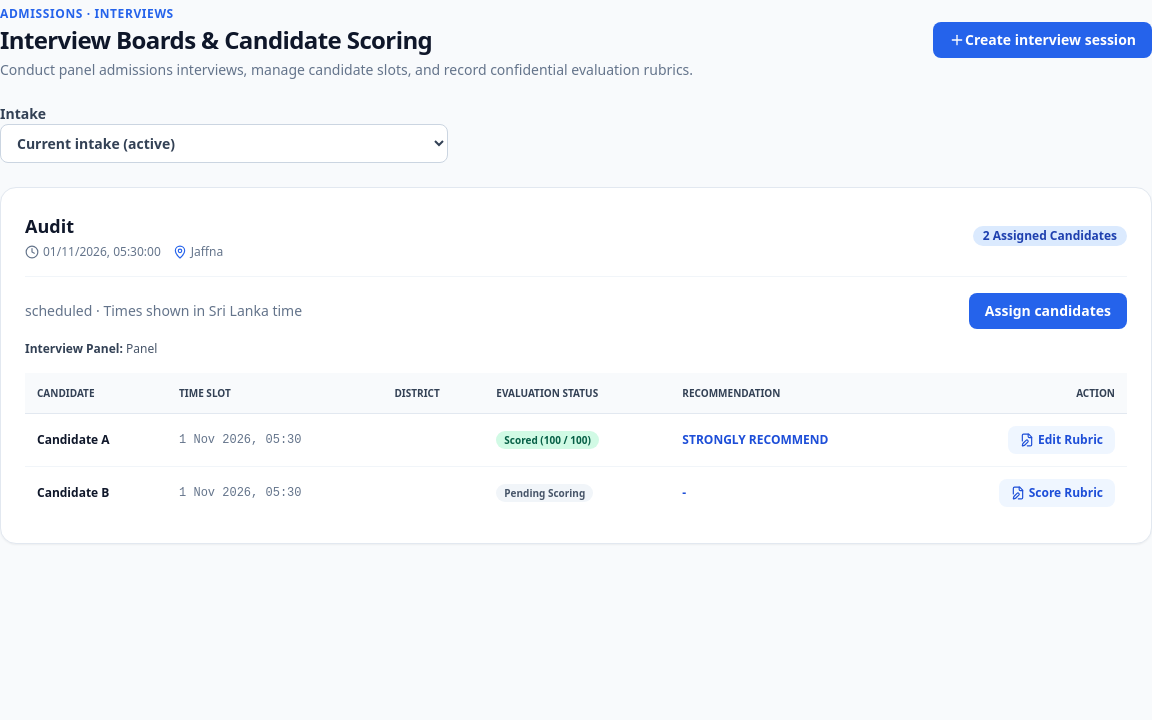
Scenario: R8 resets all rubric values when opening an unscored candidate
Step 1. Click the button "Edit Rubric" → (1062, 440), box 1008,426 -> 1115,454
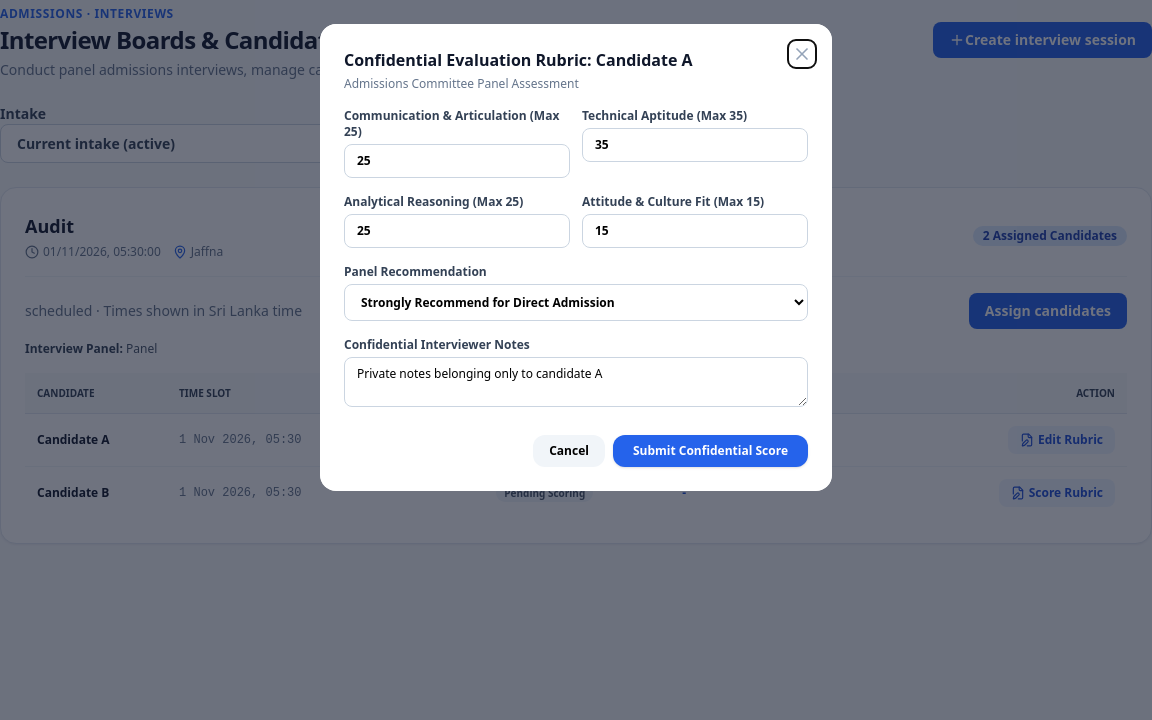
Now the text box labelled "Confidential Interviewer Notes" holds "Private notes belonging only to candidate A", box 344,357 -> 808,407
Step 2. Click the button "Cancel" → (569, 451), box 533,435 -> 605,467
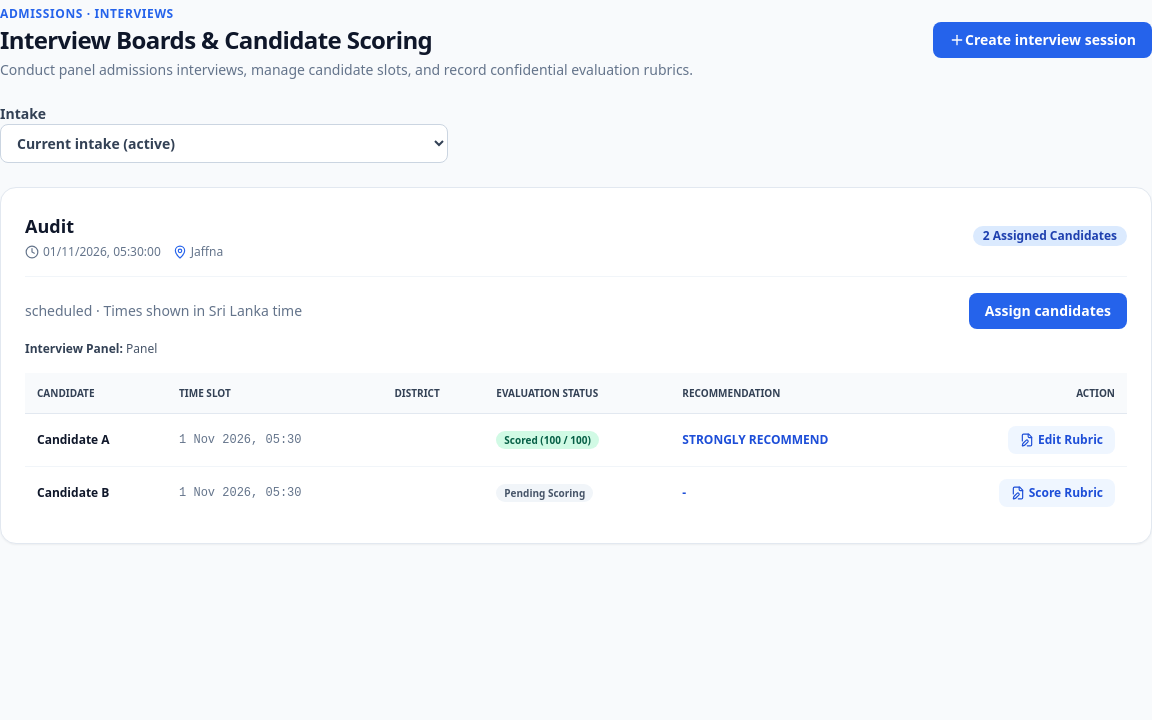
Step 3. Click the button "Score Rubric" → (1057, 493), box 999,479 -> 1115,507
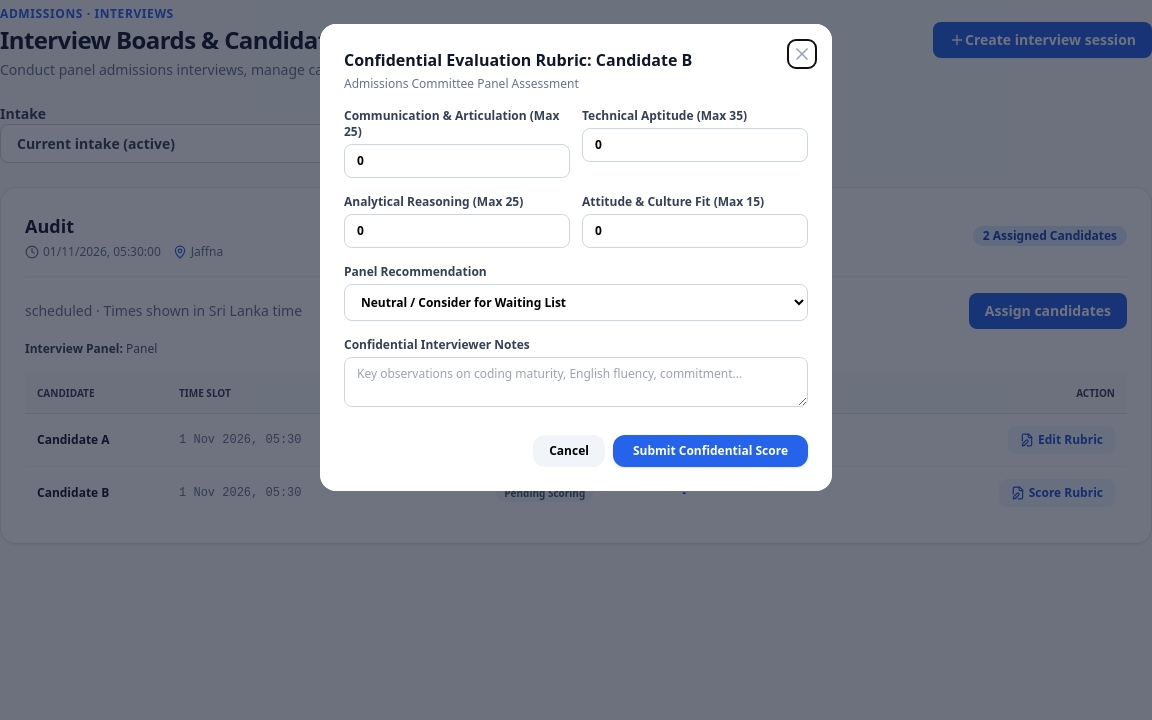
Now the text box labelled "Confidential Interviewer Notes" is empty, box 344,357 -> 808,407
Now the number field labelled "Communication & Articulation (Max 25)" holds "0", box 344,144 -> 570,178
Now the number field labelled "Technical Aptitude (Max 35)" holds "0", box 582,128 -> 808,162
